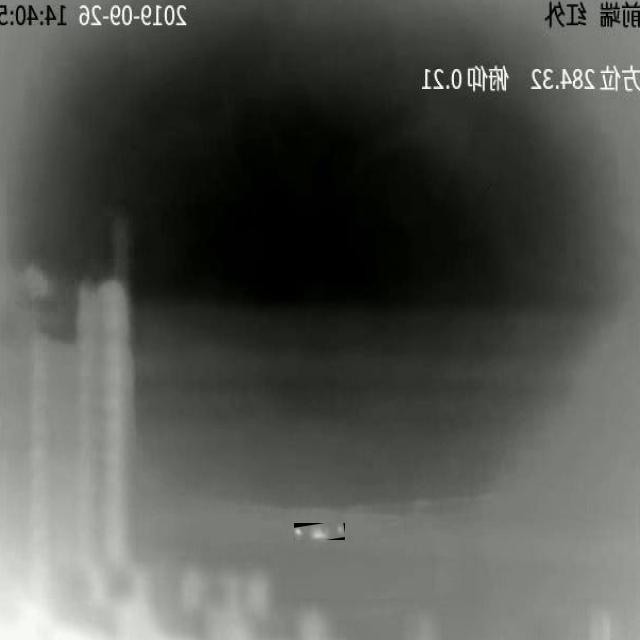drone: (294, 524, 345, 540)
